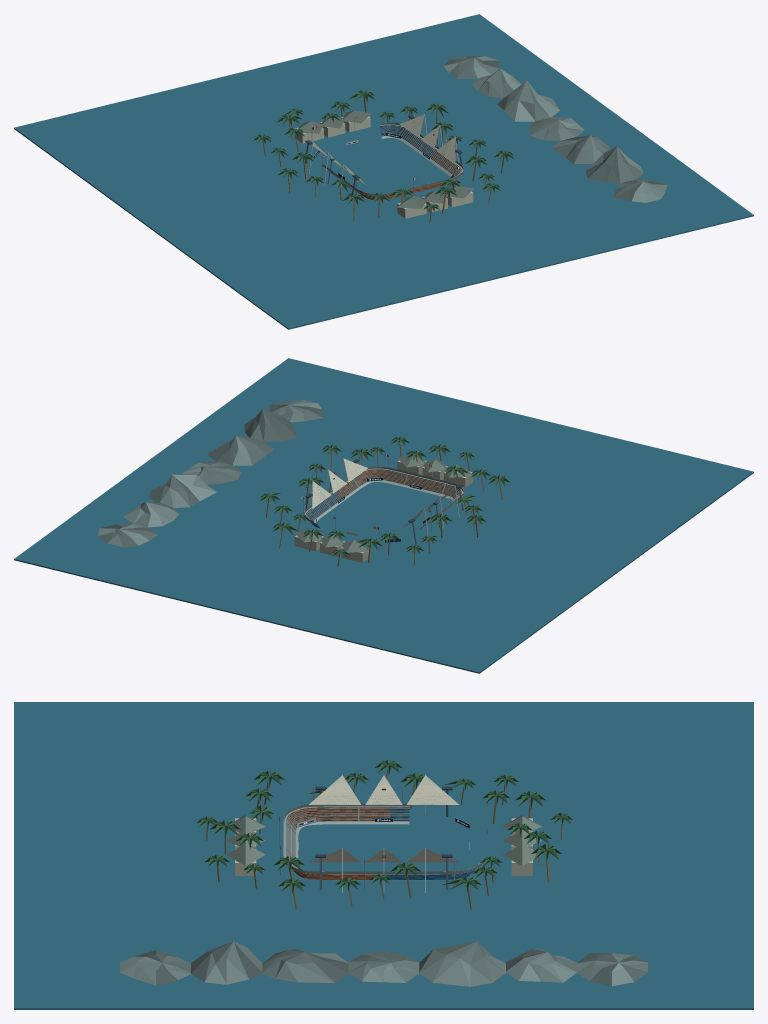
Rendered from coastal-v2.glb.
The picture shows the model from 3 angles, top to bottom: view 1: azimuth 30°, elevation 25°; view 2: azimuth 150°, elevation 25°; view 3: azimuth 270°, elevation 25°; orthographic projection. The views are drawn at different scales.
Parts seen in each view (by area): view 1: Arena architecture / coastal; view 2: Arena architecture / coastal; view 3: Arena architecture / coastal.
Boxes of the visible parts, <box> form: Arena architecture / coastal: <box>14,14,753,329</box>; Arena architecture / coastal: <box>14,358,753,673</box>; Arena architecture / coastal: <box>14,702,753,1009</box>.
Bounding box in the file's own units: 61300 × 4215 × 62600.
Materials: 4 (2 with a texture image).
